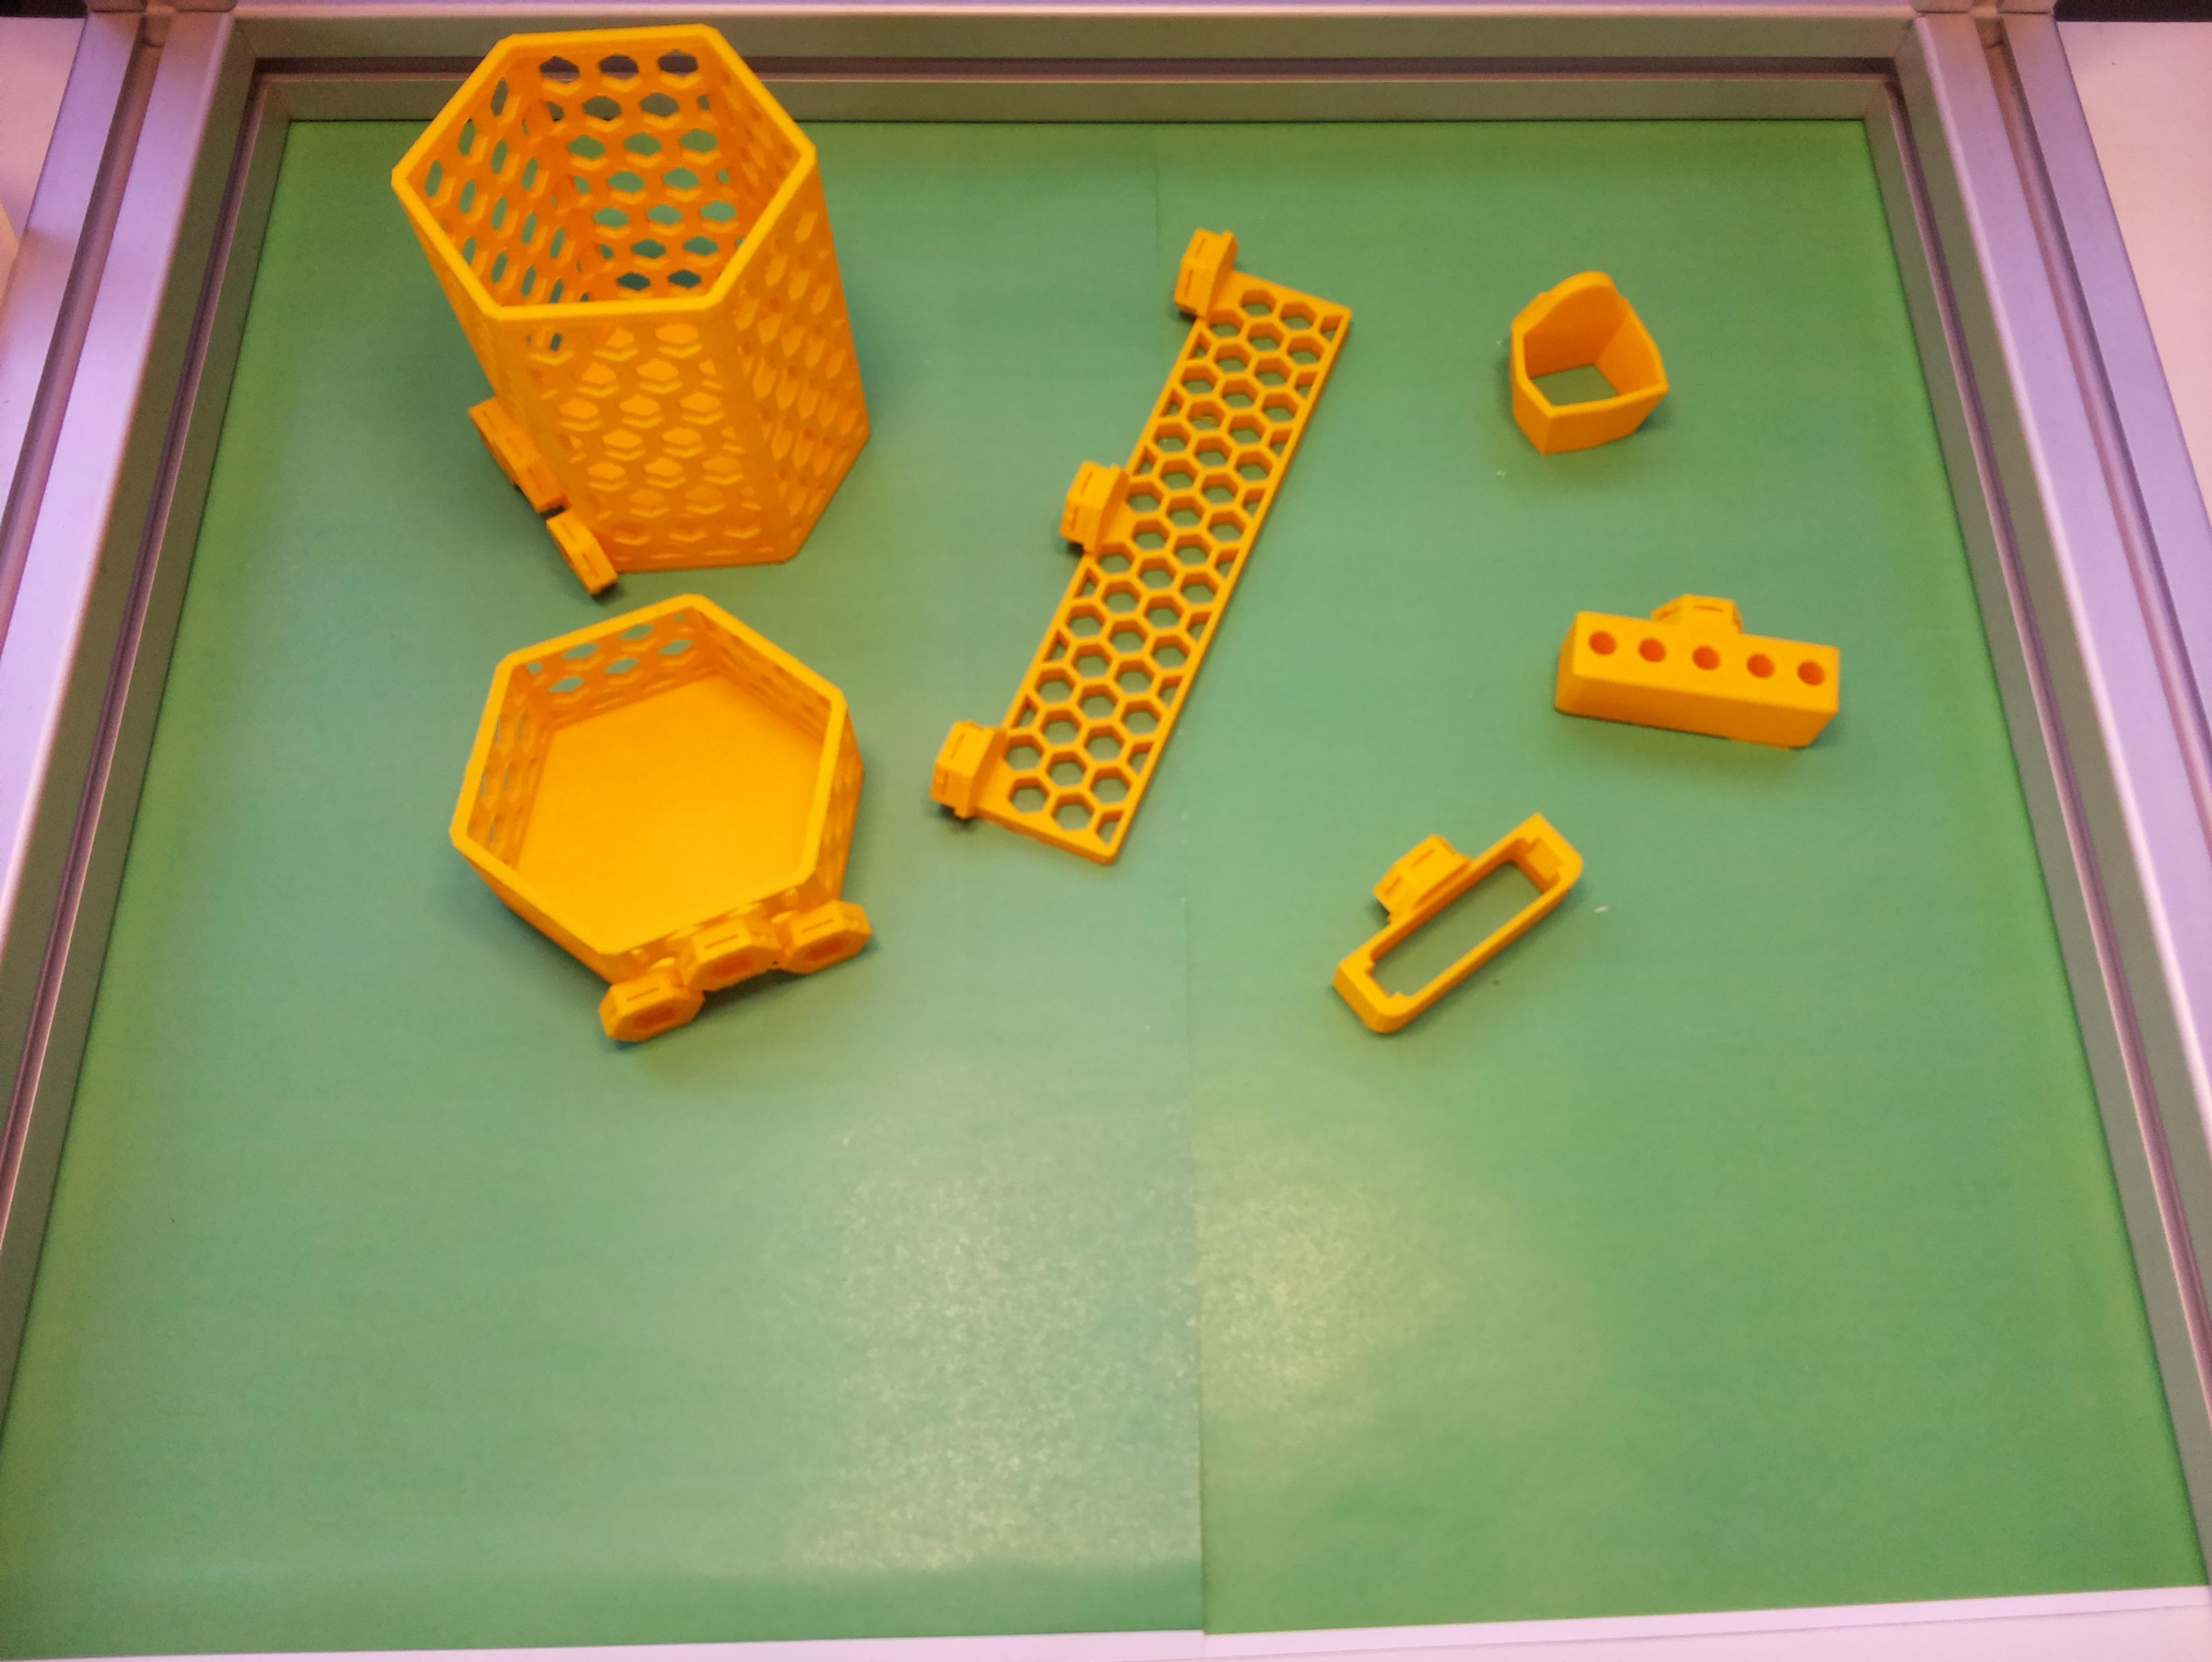bit_holder: (1550, 578, 1851, 754)
bottle_holder: (398, 546, 934, 1079)
cutter_holder: (1297, 772, 1596, 1046)
scissor_holder: (1467, 257, 1688, 482)
tool_holder: (920, 211, 1365, 882)
